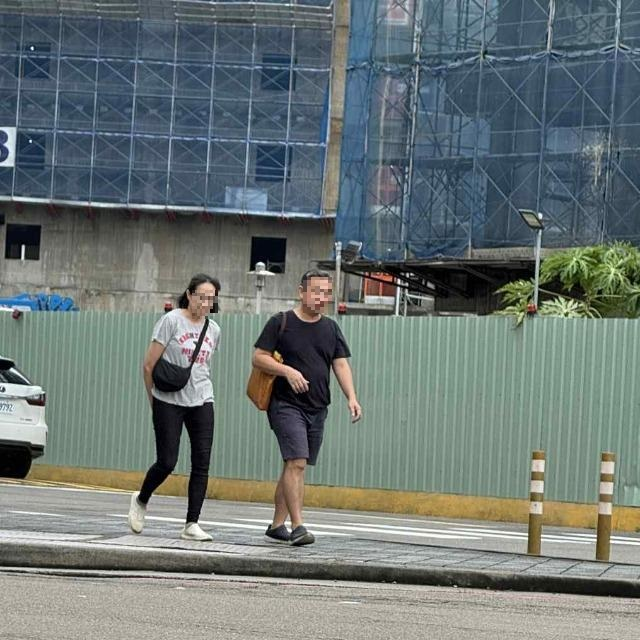NoHelmet: (297, 269, 335, 317)
